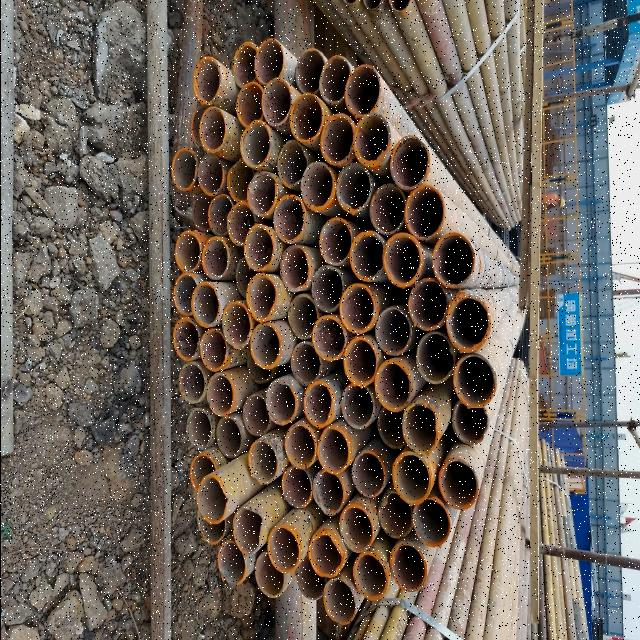pipe: (444, 290, 494, 354), (451, 350, 499, 410), (402, 182, 448, 242), (431, 229, 476, 289), (437, 454, 481, 514), (406, 275, 451, 333), (388, 132, 431, 192), (380, 231, 424, 289), (414, 329, 456, 385), (390, 450, 432, 506), (411, 494, 453, 550), (372, 357, 414, 413), (401, 398, 441, 456), (352, 110, 392, 168), (389, 539, 429, 595), (367, 179, 407, 235), (334, 160, 374, 216), (337, 282, 378, 336), (318, 110, 356, 168), (350, 548, 390, 602), (347, 228, 387, 282), (344, 63, 382, 117), (373, 303, 411, 357), (450, 396, 490, 446), (288, 90, 325, 144), (376, 488, 414, 540), (341, 334, 379, 386), (299, 158, 335, 212), (318, 214, 354, 268), (271, 192, 307, 246), (310, 312, 348, 362), (307, 529, 345, 579), (317, 52, 352, 106), (338, 502, 374, 554), (321, 576, 358, 626), (311, 466, 346, 518), (238, 117, 273, 169), (276, 137, 310, 190), (339, 380, 375, 430), (350, 448, 386, 498), (264, 524, 300, 574), (316, 426, 352, 474), (196, 472, 228, 526), (302, 377, 335, 429), (245, 272, 278, 324), (293, 46, 327, 96), (310, 263, 344, 313), (278, 242, 312, 292), (286, 290, 320, 340), (253, 548, 286, 598), (248, 322, 283, 369), (288, 340, 322, 388), (282, 422, 316, 470), (264, 378, 298, 426), (231, 507, 265, 555), (242, 222, 276, 270), (260, 76, 292, 126), (221, 299, 253, 349), (253, 36, 286, 84), (225, 199, 258, 247), (246, 438, 278, 486), (245, 170, 277, 218), (189, 280, 221, 328), (192, 55, 222, 106), (230, 40, 260, 90), (234, 78, 264, 128), (375, 406, 407, 451), (216, 538, 246, 586), (198, 325, 228, 373), (205, 370, 235, 418), (176, 361, 208, 406), (225, 157, 256, 203), (280, 466, 312, 510), (198, 104, 226, 154), (240, 391, 270, 437), (200, 234, 230, 280), (184, 406, 214, 452), (214, 414, 244, 459), (294, 558, 326, 600), (170, 144, 198, 192), (206, 191, 235, 237), (188, 449, 218, 492), (172, 316, 200, 362), (196, 152, 224, 196), (174, 228, 202, 272), (172, 271, 198, 317), (195, 512, 225, 546), (191, 190, 213, 232), (234, 258, 256, 298)
